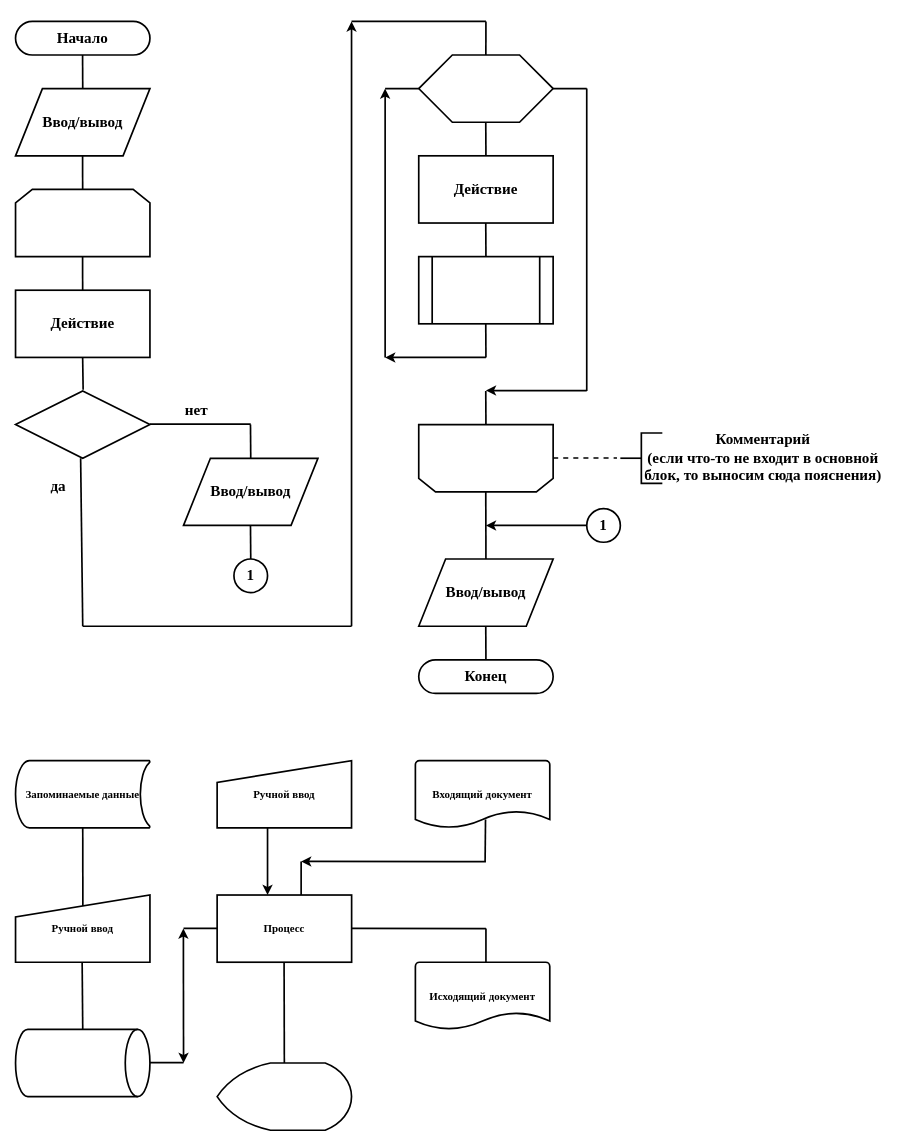
Some shapes in this 903 by 1145 pixel diagram are drawn without their labels. Here are the shapes that lost their labels. From the top down, the centre of each, then its label:
At (485,88): "i=0, i++".
At (82,222): "Название цикла/ Условие, если цикл с пред-условием".
At (485,289): "Подпрограмма".
At (82,424): "Условие".
At (485,457): "Название цикла/ Условие, если цикл с пост-условием".
At (82,1062): "Запоминающее устройство с прямым доступом".
At (284,1096): "Дисплей".
